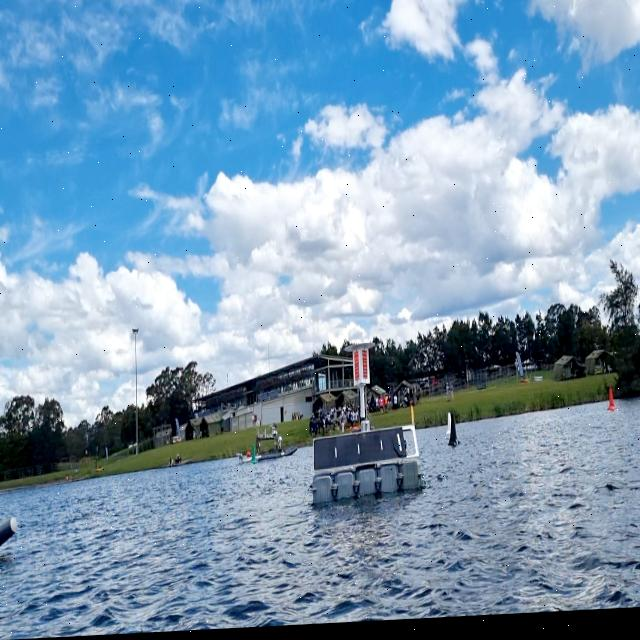led: (354, 354, 361, 385), (362, 352, 368, 386)
